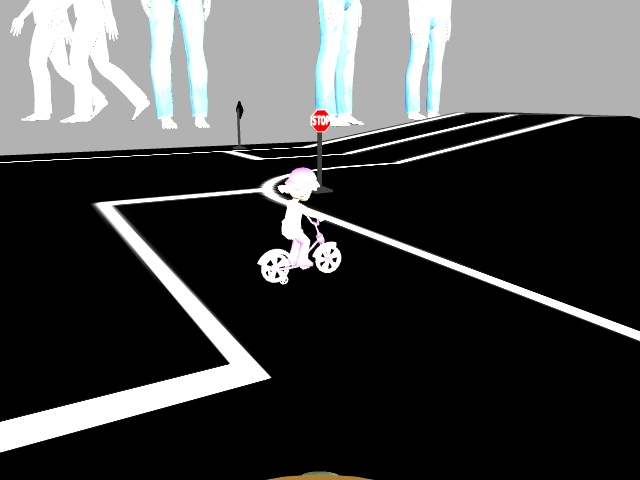Pedestrian: (254, 166, 347, 282)
Stop: (307, 107, 333, 134)
